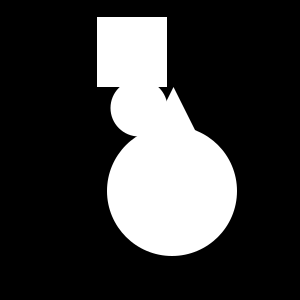circle: (97, 17, 167, 87), (134, 192, 168, 226)
rectangle: (107, 126, 237, 256), (110, 80, 168, 136)
triangle: (121, 87, 226, 192)
